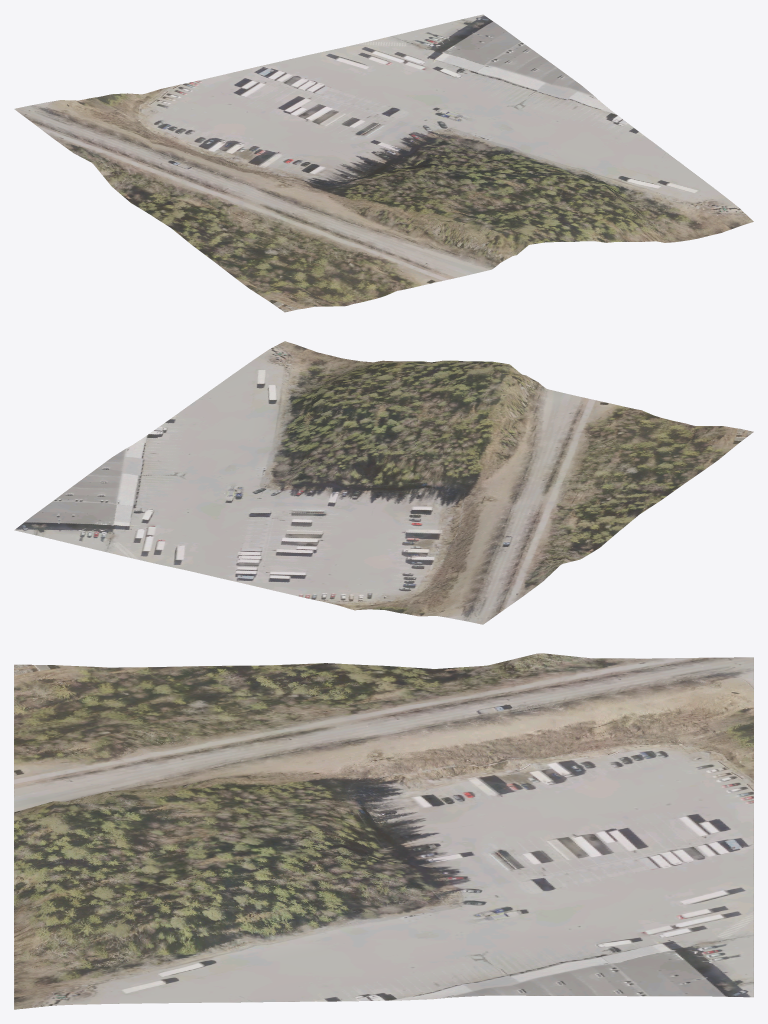
File: CM_Terrain_24492916_6815903.fbx
The picture shows the model from 3 angles, top to bottom: view 1: azimuth 30°, elevation 25°; view 2: azimuth 150°, elevation 25°; view 3: azimuth 270°, elevation 25°; orthographic projection. The views are drawn at different scales.
Visible parts, largest first — view 1: CM_Terrain_24492916_6815903_LOD0; view 2: CM_Terrain_24492916_6815903_LOD0; view 3: CM_Terrain_24492916_6815903_LOD0.
Boxes of the visible parts, <box> form: CM_Terrain_24492916_6815903_LOD0: <box>14,14,753,312</box>; CM_Terrain_24492916_6815903_LOD0: <box>14,341,753,624</box>; CM_Terrain_24492916_6815903_LOD0: <box>14,653,753,1009</box>.
Size of what is drawn, in the model's own units: 205 by 15.93 by 205.
